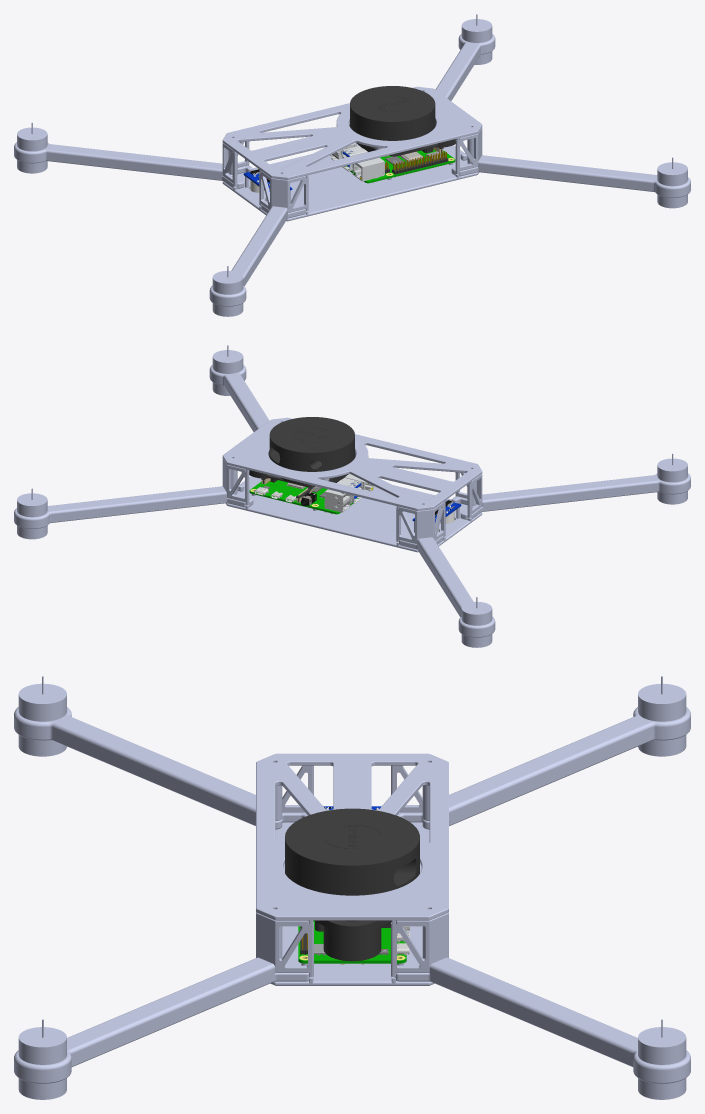
Rendered from Full_Assembly.gltf.
3 renders of one model, top to bottom at view 1: azimuth 30°, elevation 25°; view 2: azimuth 150°, elevation 25°; view 3: azimuth 270°, elevation 25°, orthographic. The views are drawn at different scales.
Parts seen in each view (by area): view 1: Chassis - Top Plate-2, Chassis - Bottom Plate-1, 360 LiDAR sensor-1, Motor Arm 1-1, Motor Arm 1-2, Motor Arm 1-4, Motor Arm 1-3, Column-2, crude motor-3, crude motor-2, crude motor-4, crude motor-1 (+5 smaller); view 2: Chassis - Top Plate-2, Chassis - Bottom Plate-1, 360 LiDAR sensor-1, Motor Arm 1-3, Motor Arm 1-4, Motor Arm 1-2, Motor Arm 1-1, Column-4, crude motor-2, crude motor-3, crude motor-1, PCB, RPi4ModelB-1 (+4 smaller); view 3: Chassis - Top Plate-2, 360 LiDAR sensor-1, Motor Arm 1-1, Motor Arm 1-3, Motor Arm 1-4, Motor Arm 1-2, Chassis - Bottom Plate-1, crude motor-1, crude motor-4, crude motor-3, crude motor-2, Column-1 (+4 smaller).
Part boxes in pixels (x1,y1,x2,y2): Chassis - Top Plate-2: (222,86,482,179); Chassis - Bottom Plate-1: (222,144,479,221); 360 LiDAR sensor-1: (349,86,455,156); Motor Arm 1-1: (451,153,690,197); Motor Arm 1-2: (14,142,253,188); Motor Arm 1-4: (209,201,305,306); Motor Arm 1-3: (435,34,495,100); Column-2: (259,171,308,212); crude motor-3: (212,266,243,316); crude motor-2: (17,122,47,173); crude motor-4: (657,157,687,208); crude motor-1: (461,14,492,64); Chassis - Top Plate-2: (222,417,482,510); Chassis - Bottom Plate-1: (225,476,482,552); 360 LiDAR sensor-1: (249,417,355,487); Motor Arm 1-3: (14,484,253,528); Motor Arm 1-4: (451,473,690,519); Motor Arm 1-2: (399,532,495,637); Motor Arm 1-1: (209,365,269,431); Column-4: (396,502,445,543); crude motor-2: (461,597,492,647); crude motor-3: (657,453,687,504); crude motor-1: (17,488,47,539); PCB, RPi4ModelB-1: (249,480,358,514); Chassis - Top Plate-2: (256,753,448,924); 360 LiDAR sensor-1: (285,808,419,961); Motor Arm 1-1: (14,957,313,1083); Motor Arm 1-3: (391,957,690,1083); Motor Arm 1-4: (14,707,307,829); Motor Arm 1-2: (397,707,690,829); Chassis - Bottom Plate-1: (270,822,434,985); crude motor-1: (638,1019,686,1099); crude motor-4: (18,1019,66,1099); crude motor-3: (18,676,66,756); crude motor-2: (638,676,686,756); Column-1: (256,912,313,976).
Bounding box in the file's own units: 0.4508 × 0.069 × 0.3508.
